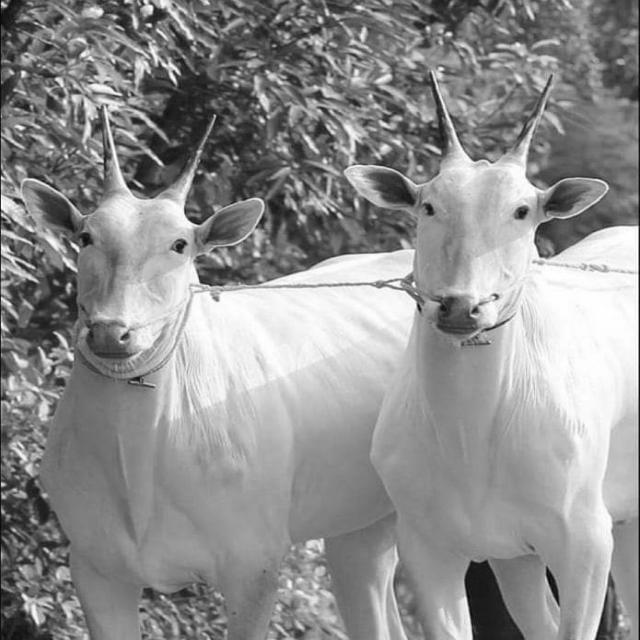Cow: (342, 68, 636, 638)
